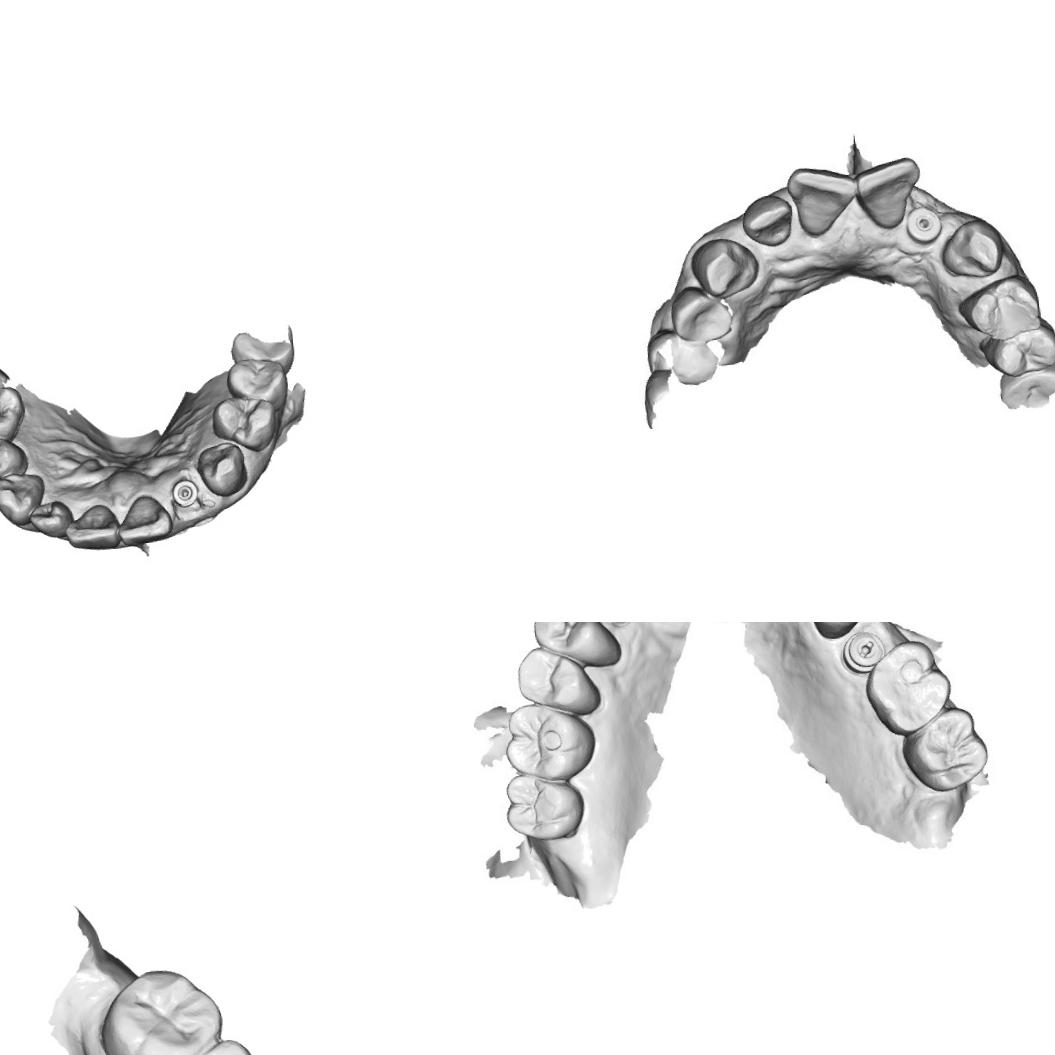canine: (691, 236, 762, 298), (942, 218, 1004, 282), (192, 438, 250, 500), (0, 470, 48, 527)
implant: (904, 202, 944, 247), (168, 475, 200, 509)
implant_minus: (837, 628, 889, 676)
incisor: (791, 161, 861, 236), (856, 156, 921, 229), (113, 491, 175, 548), (62, 500, 120, 554), (746, 192, 794, 247), (27, 497, 75, 543)
molar: (100, 965, 225, 1055), (860, 635, 958, 738), (898, 703, 992, 798), (500, 698, 598, 788), (501, 768, 586, 844), (230, 327, 303, 378), (178, 1034, 275, 1055)
premolar: (514, 642, 598, 720), (961, 278, 1042, 342), (208, 392, 281, 455), (529, 622, 620, 668), (224, 354, 290, 414), (670, 285, 732, 344), (992, 328, 1055, 377), (0, 383, 28, 443), (0, 428, 29, 485), (802, 622, 879, 641)
